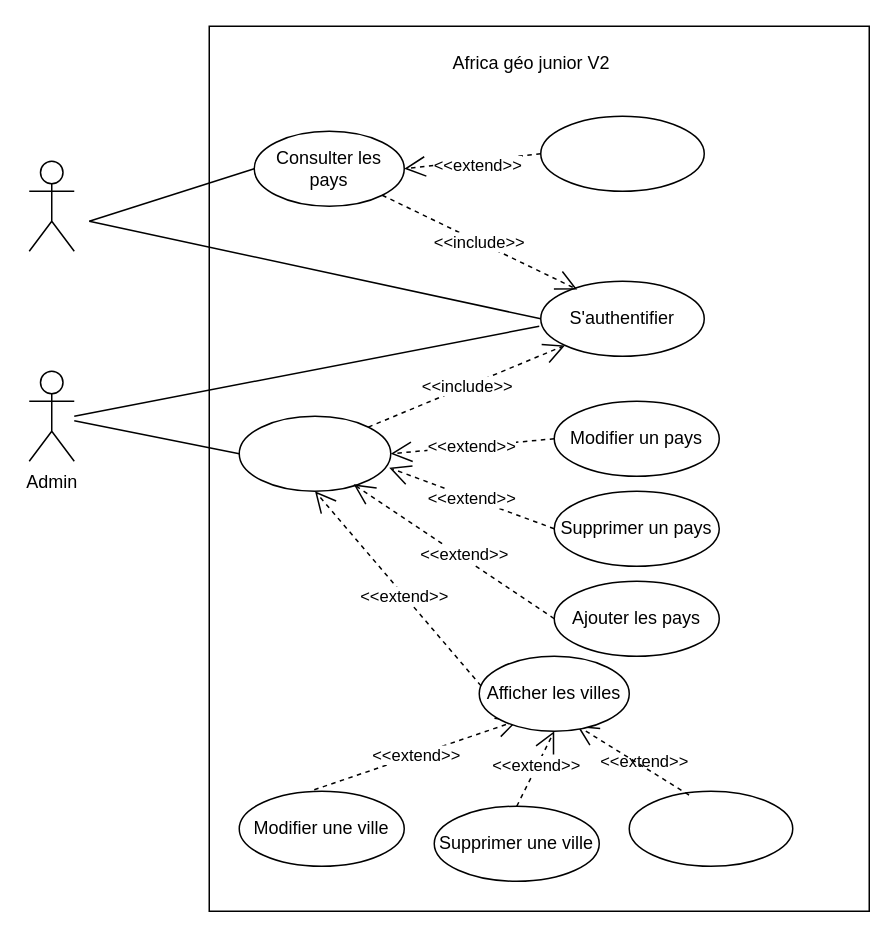
Some shapes in this 896 by 938 pixel diagram are drawn without their labels. Here are the shapes that lost their labels. From the top down, the box of each, then its label:
(539, 115, 704, 191): Consulter les villes
(28, 160, 74, 251): User
(238, 415, 391, 491): Afficher les pays
(628, 790, 793, 866): Ajouter une ville
